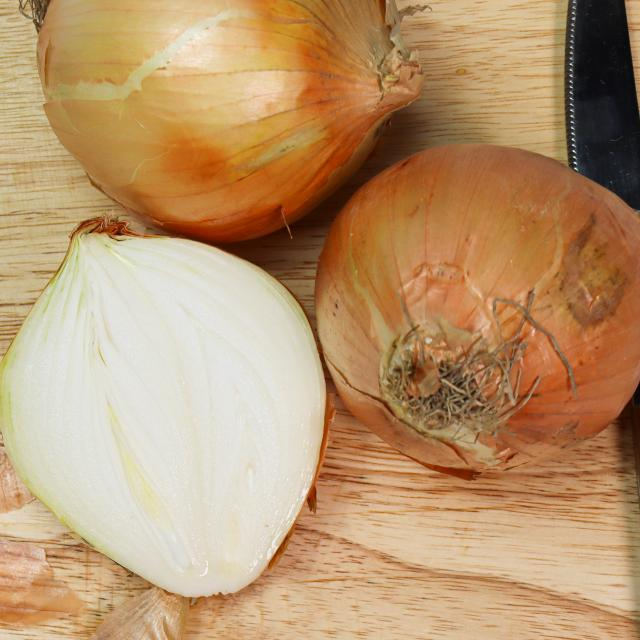onion: (0, 229, 324, 599), (314, 143, 640, 474)
